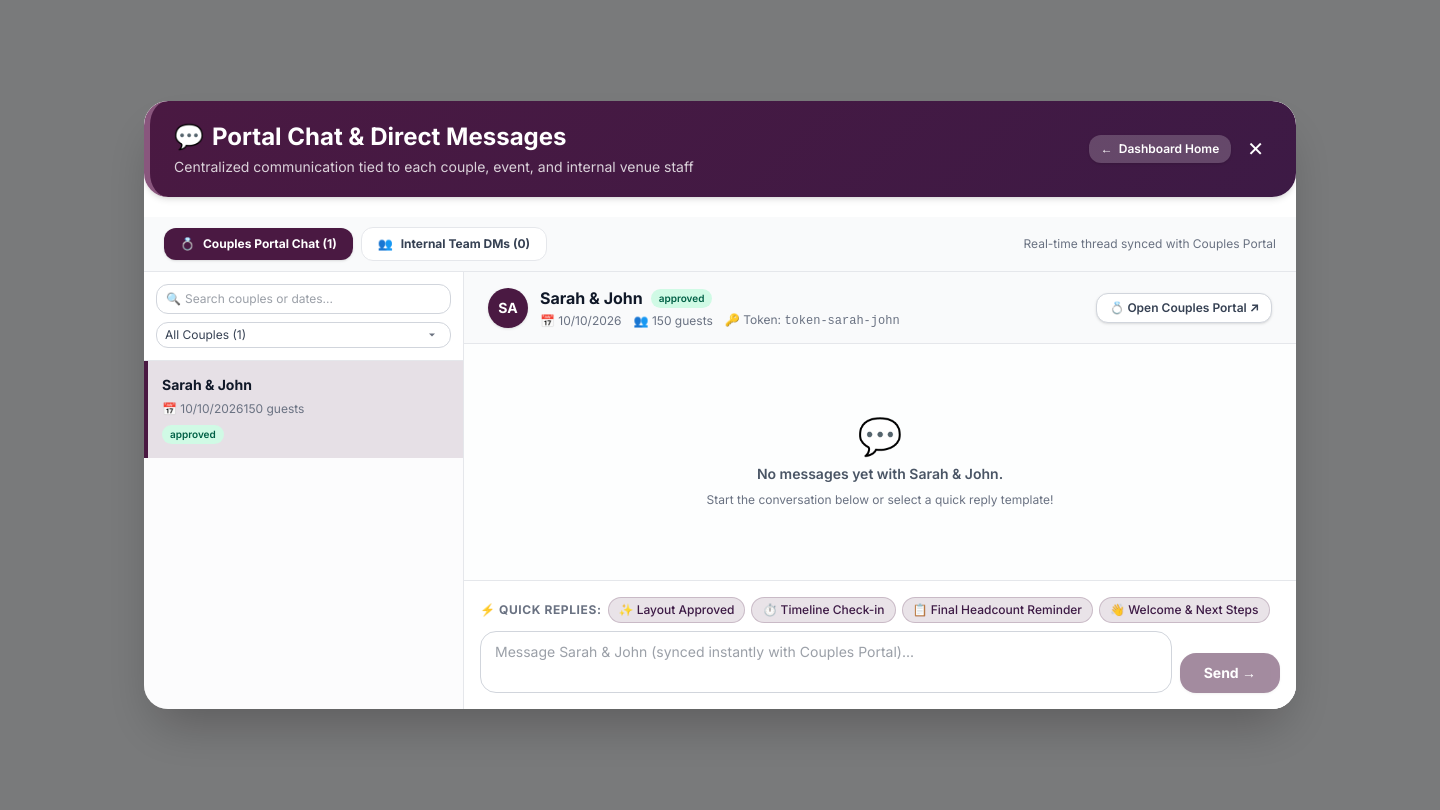
it: VenueChatPanel Portal-to-Portal Chat & DMs (#146) › allows sending a message to the selected couple event
The width and height of the screenshot is (1440, 810).
Replace the text in the text box with placeholder "Message Sarah & John" with "Welcome to your Seven Paths Manor portal!" at x=826, y=662, box x1=480 y1=631 x2=1172 y2=693
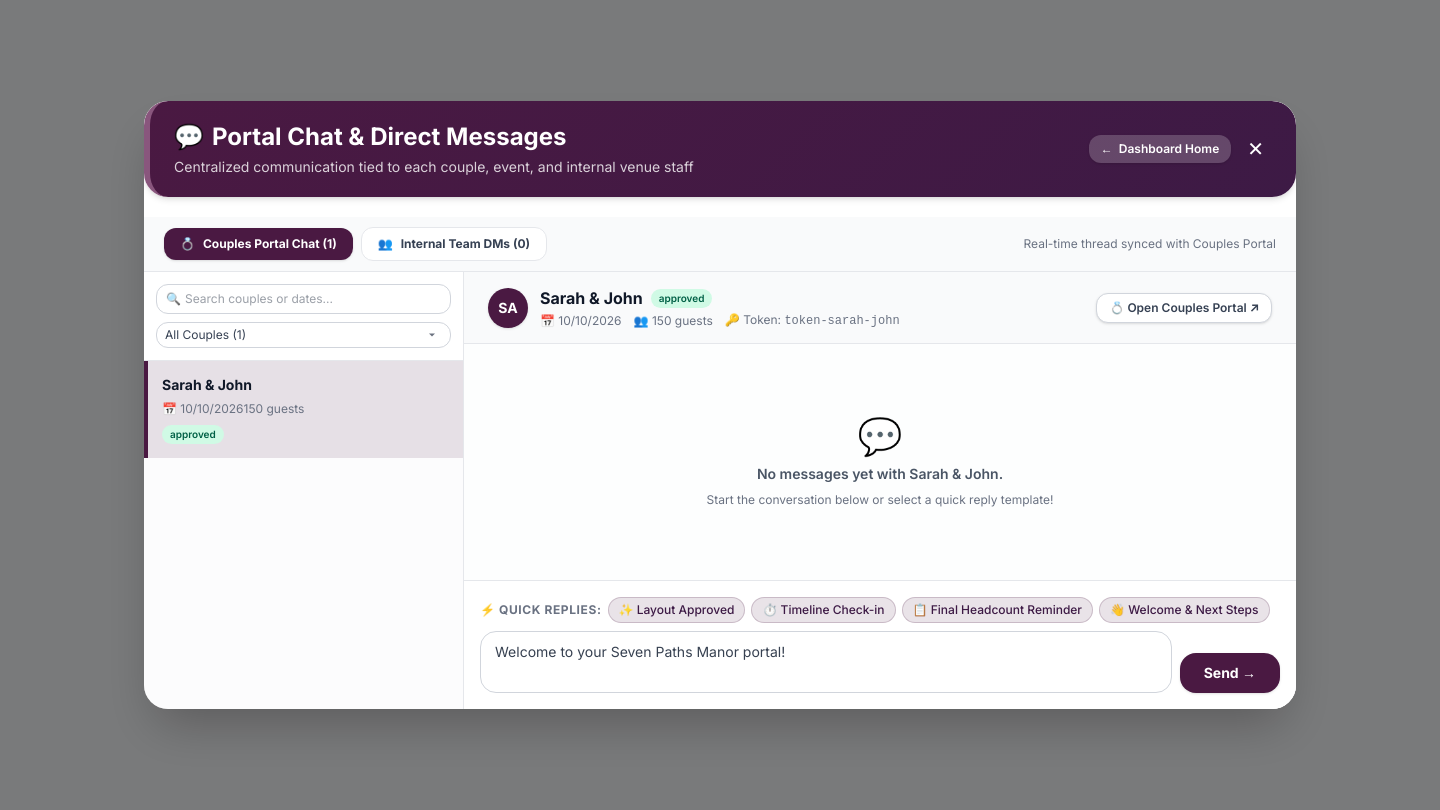
Click the button "Send →" at x=1230, y=673, box x1=1180 y1=653 x2=1280 y2=693
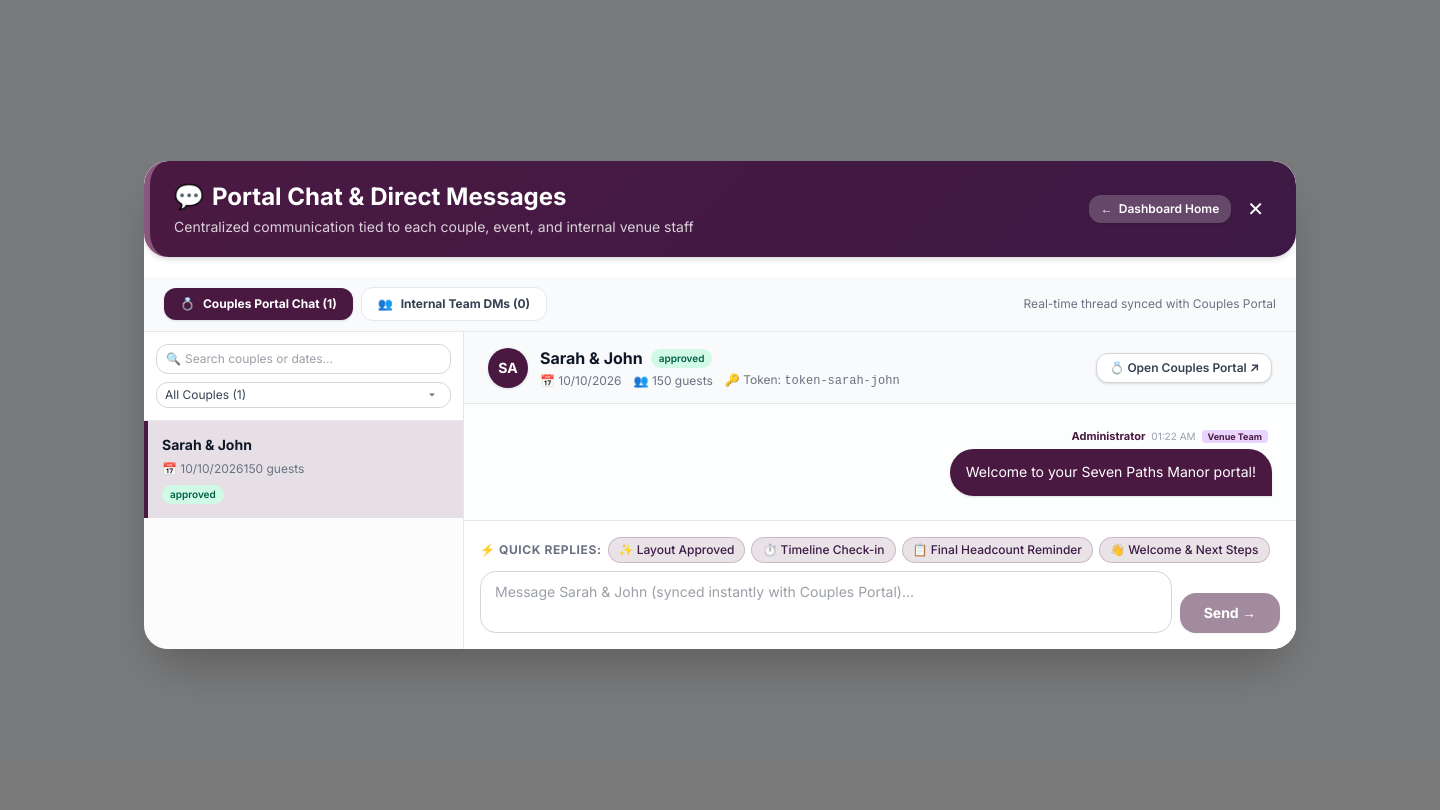
Check: the text "Welcome to your Seven Paths Manor portal!" is shown, box x1=966 y1=461 x2=1256 y2=484
Check: the text "Venue Team" is shown, box x1=1202 y1=430 x2=1268 y2=443
